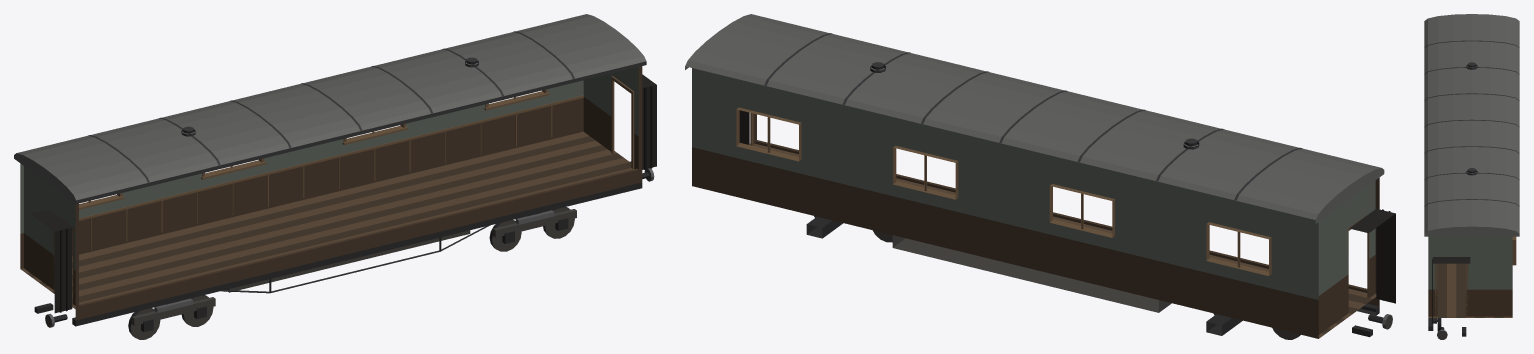
Rendered from shell_plain.glb.
3 views of the same model, side by side, from view 1: azimuth 30°, elevation 25°; view 2: azimuth 150°, elevation 25°; view 3: azimuth 270°, elevation 25° (orthographic). The views are drawn at different scales.
Parts seen in each view (by area): view 1: low, top; view 2: low, top; view 3: top, low.
Boxes of the visible parts, bbox=[...] form: low: bbox=[20, 73, 656, 339]; top: bbox=[14, 14, 646, 227]; low: bbox=[692, 96, 1395, 339]; top: bbox=[685, 14, 1384, 248]; top: bbox=[1424, 14, 1519, 254]; low: bbox=[1428, 236, 1516, 339].
Bounding box in the file's own units: 17 × 4.81 × 3.04.
1 material, 1 textured.
